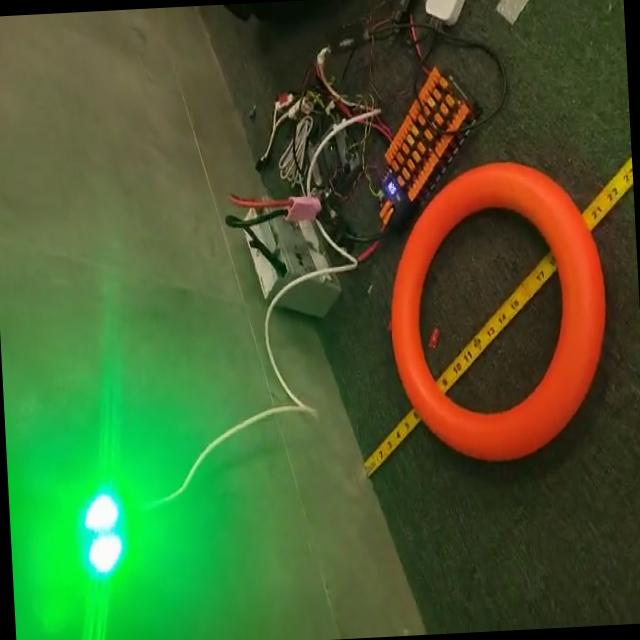note: (382, 156, 618, 466)
